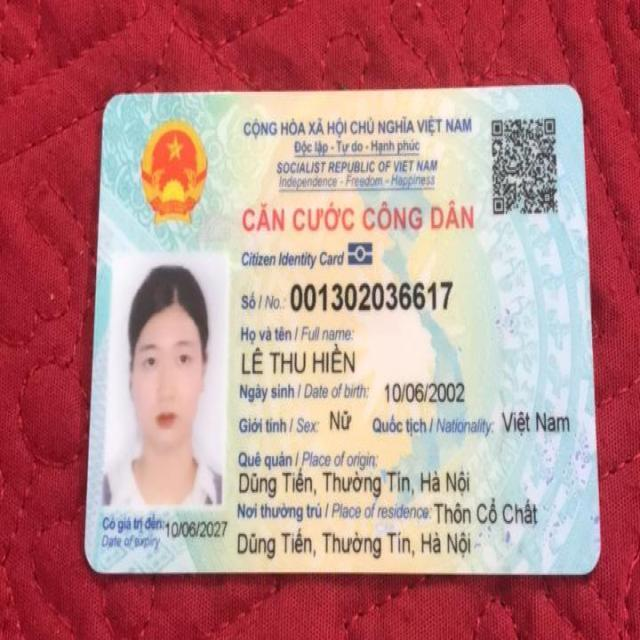bottom_left: (65, 536, 124, 588)
bottom_right: (569, 535, 610, 584)
image_person: (107, 254, 230, 517)
top_left: (91, 84, 136, 128)
top_right: (550, 73, 598, 109)
